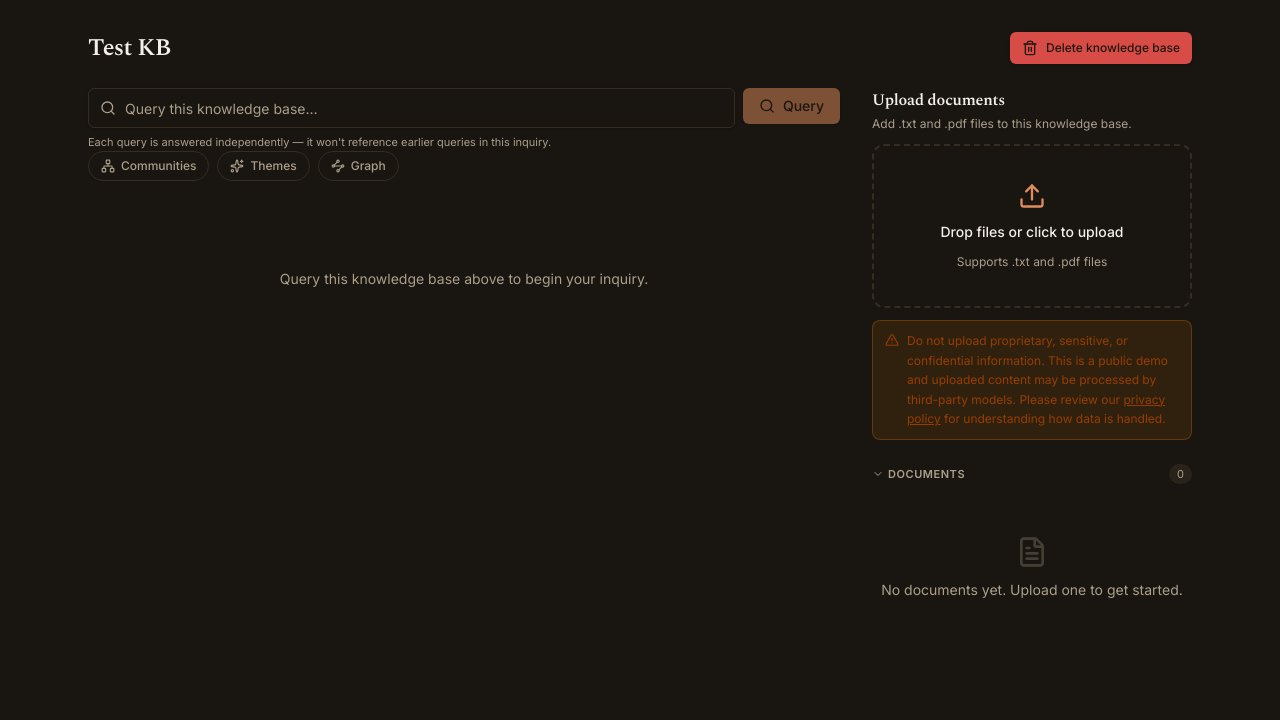
Test case: KBDetailPage › explore section › pills › both panels can be open at once, independently, color-coordinated with their pill
Click the button "Communities": click(149, 166) x1=88 y1=150 x2=210 y2=180
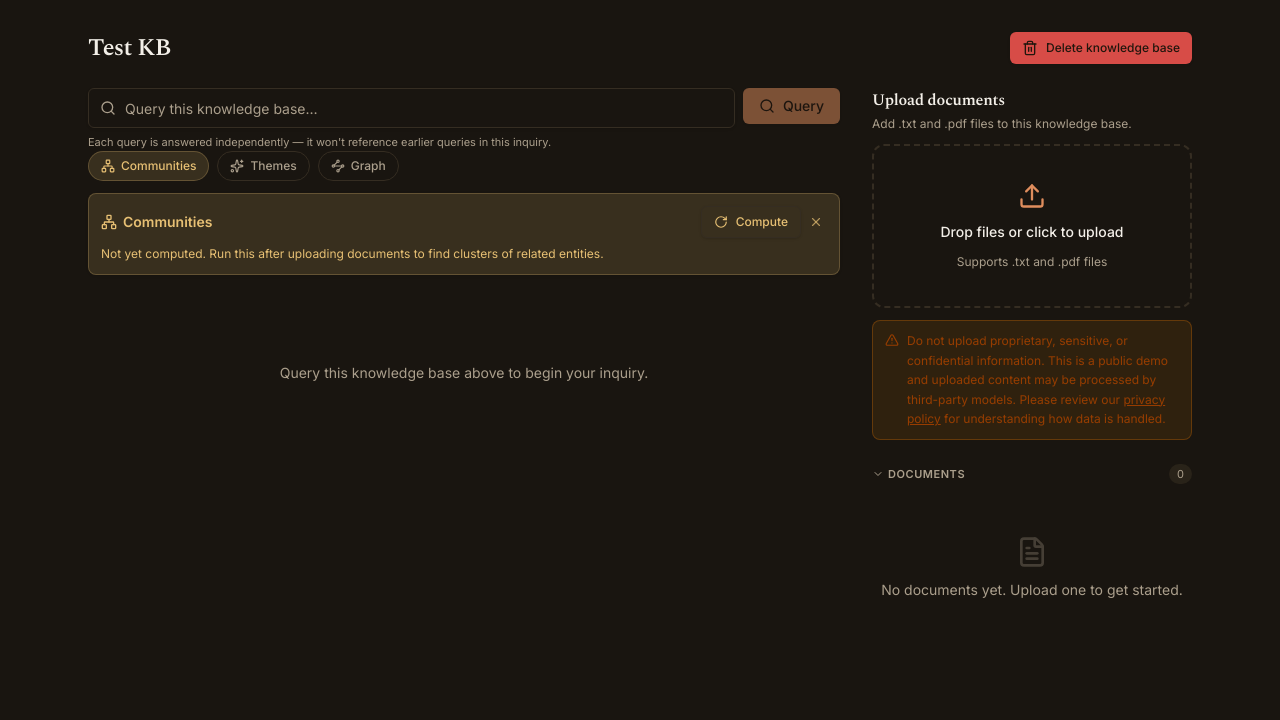
Click the button "Themes": click(264, 166) x1=218 y1=150 x2=310 y2=180
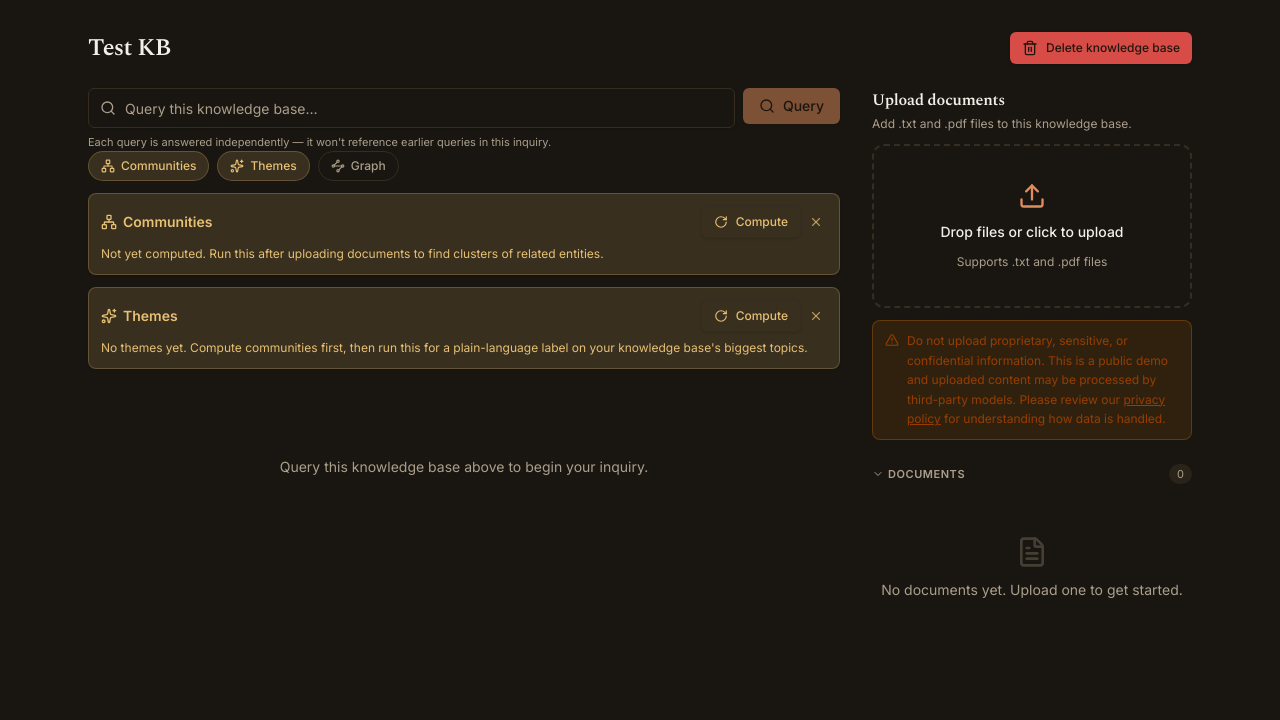
Expected: the element "Communities" is shown, x1=88 y1=192 x2=840 y2=274
Expected: the element "Themes" is shown, x1=88 y1=286 x2=840 y2=368
